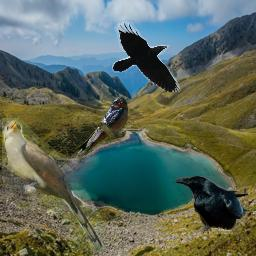Crow: (112, 21, 181, 92), (175, 176, 248, 234)
Cuckoo: (2, 118, 106, 252)
Swallow: (73, 97, 128, 167)
